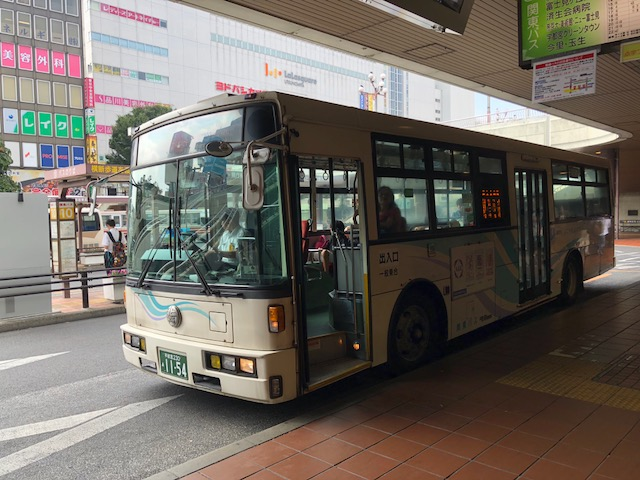destination: (148, 113, 225, 162)
